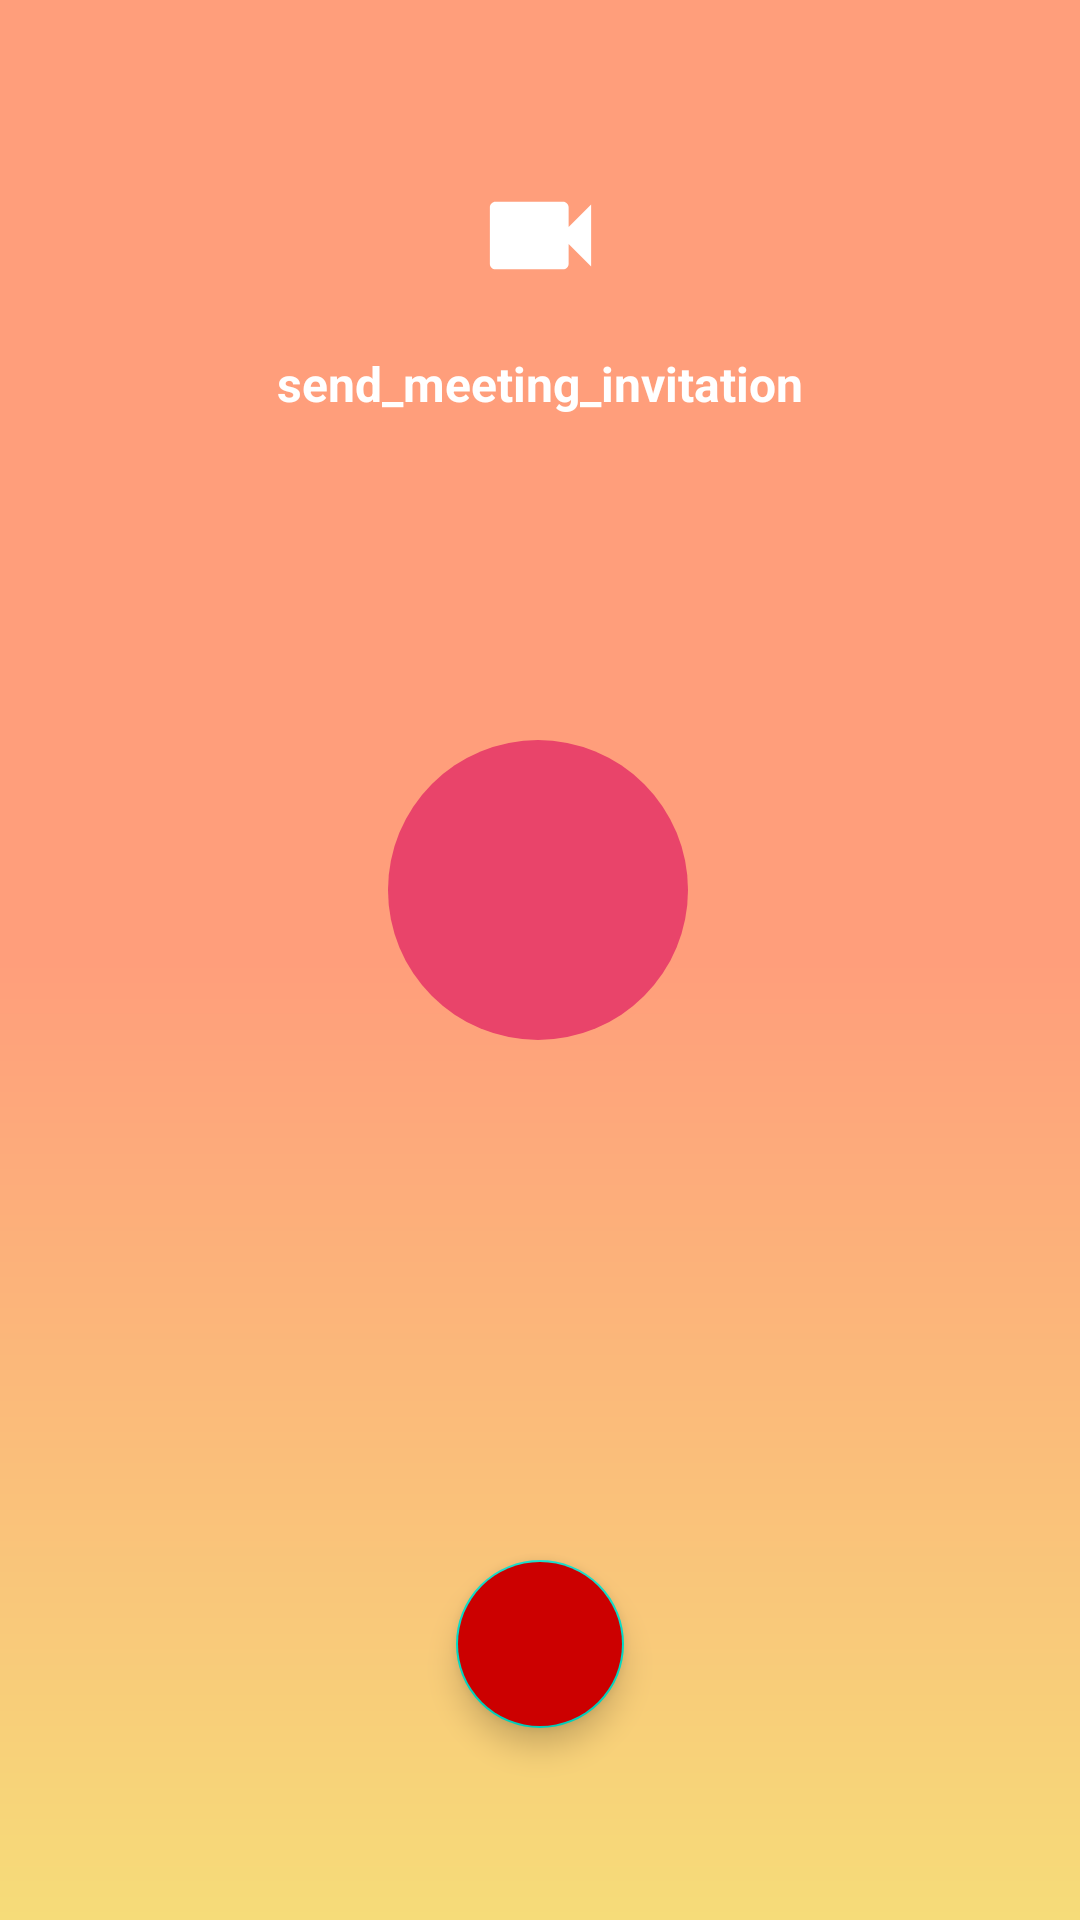

Screen size 1080 x 1920. Icon name, then its center in pixels as point (x, y):
videocam: point (540, 235)
